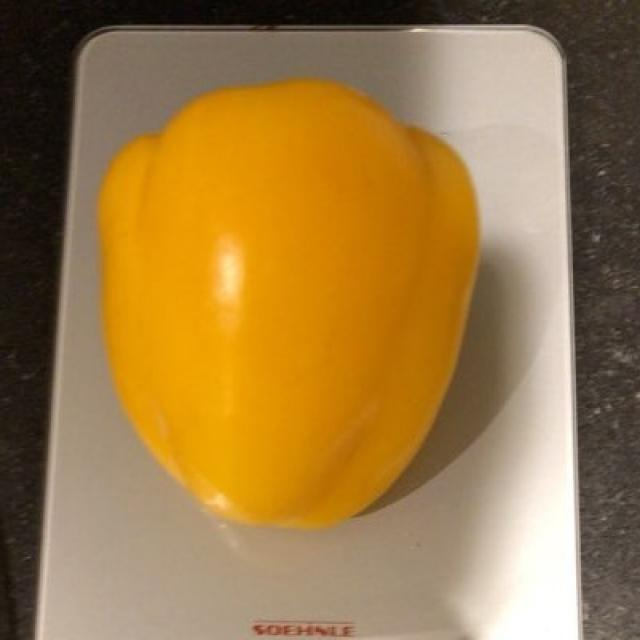bell-pepper: (100, 81, 473, 527)
